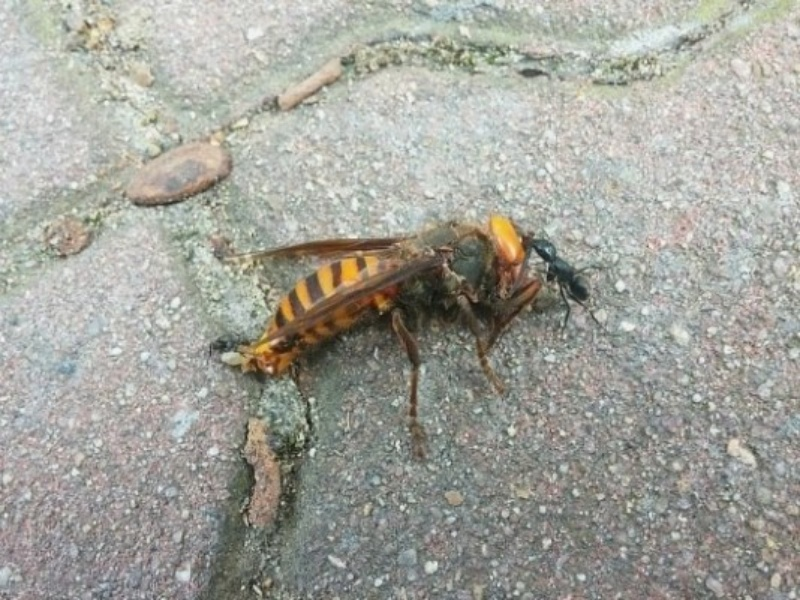asian_giant_hornet: (249, 206, 542, 374)
